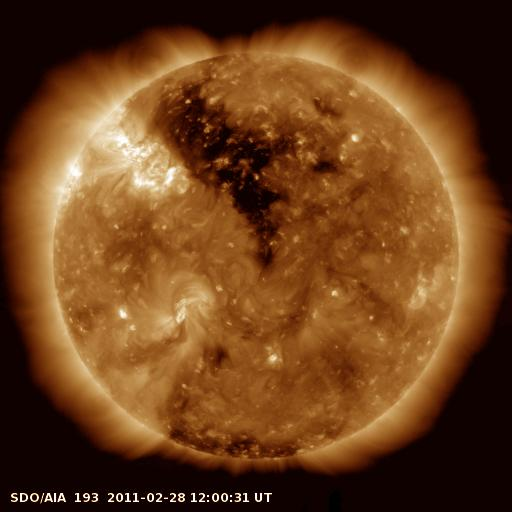coronal_hole: (151, 67, 304, 274), (159, 418, 304, 466)
